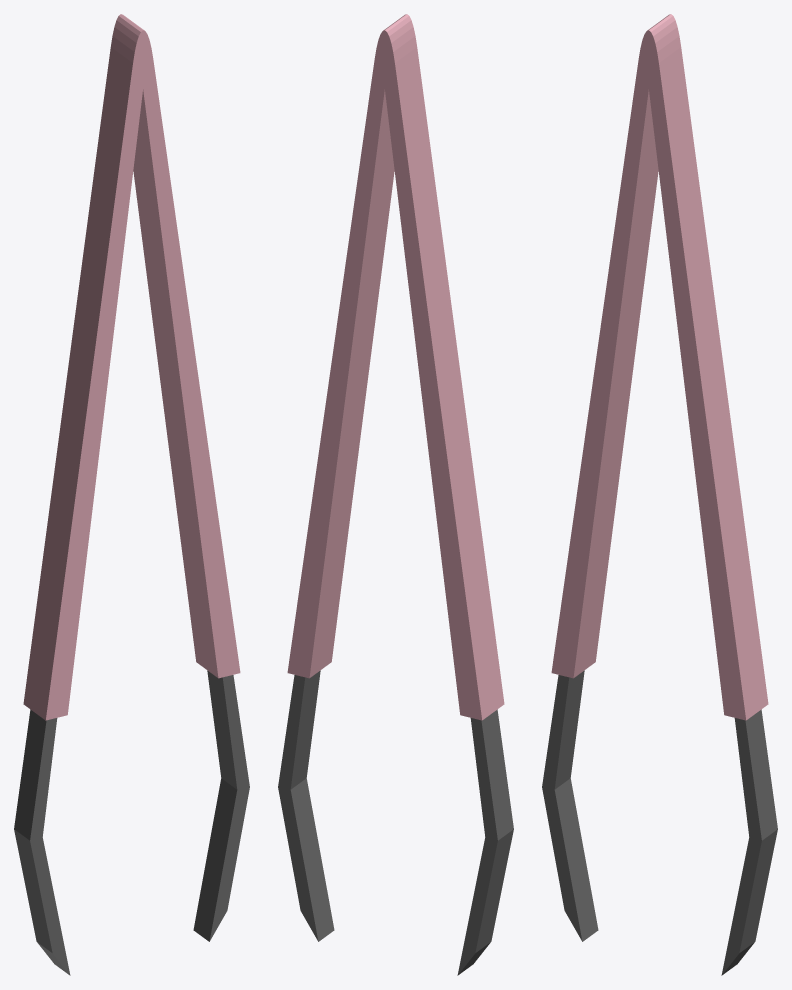
The model's file is cimbiz.fbx.
3 views of the same model, side by side, from view 1: azimuth 30°, elevation 25°; view 2: azimuth 150°, elevation 25°; view 3: azimuth 330°, elevation 25° (orthographic).
Parts seen in each view (by area): view 1: Cimbiz; view 2: Cimbiz; view 3: Cimbiz.
Part boxes in pixels (x1=…): Cimbiz: x1=14, y1=14, x2=249, y2=975; Cimbiz: x1=278, y1=14, x2=513, y2=975; Cimbiz: x1=542, y1=14, x2=777, y2=975.
Size of the model in its own units: 158 by 640 by 27.77.
